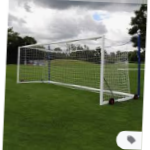goals: (15, 35, 135, 106)
